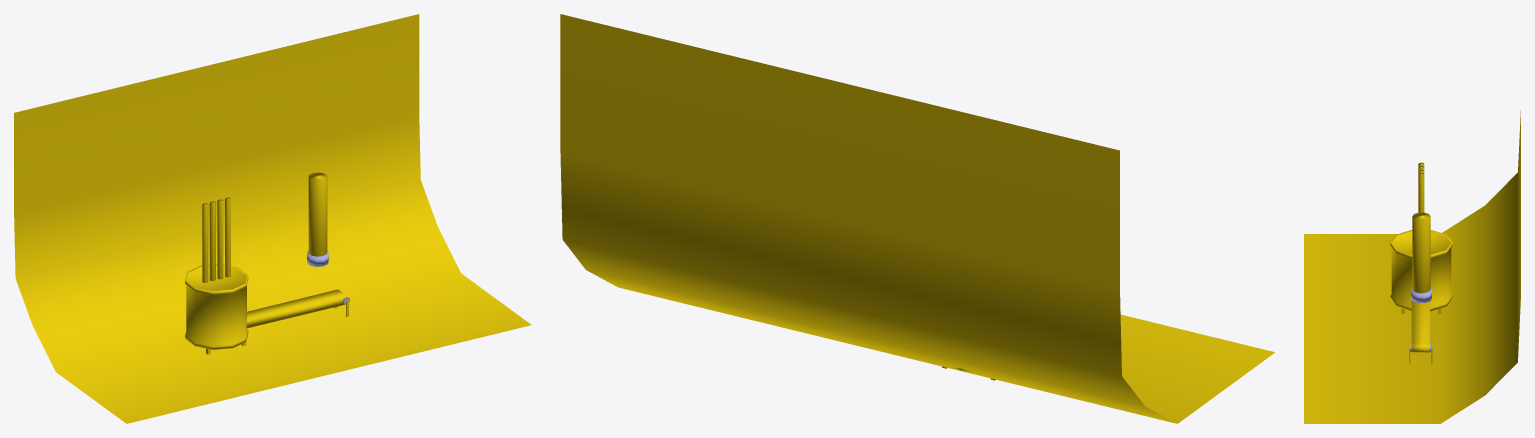
Rendered from grip_background.gltf.
The picture shows the model from 3 angles, left to right: view 1: azimuth 30°, elevation 25°; view 2: azimuth 150°, elevation 25°; view 3: azimuth 270°, elevation 25°; orthographic projection. The views are drawn at different scales.
Visible parts, largest first — view 1: grip_background, Cylinder.005, Cylinder.007, Cylinder.010, Cylinder.009; view 2: grip_background; view 3: grip_background, Cylinder.005, Cylinder.009, Cylinder.010, Cylinder.007, Cylinder.006.
Part boxes in pixels (x1,y1,x2,y2): grip_background: (14, 14, 531, 423); Cylinder.005: (185, 264, 248, 349); Cylinder.007: (202, 197, 230, 282); Cylinder.010: (246, 289, 349, 328); Cylinder.009: (308, 172, 327, 256); grip_background: (560, 14, 1274, 423); grip_background: (1304, 111, 1520, 423); Cylinder.005: (1390, 230, 1452, 311); Cylinder.009: (1412, 212, 1430, 293); Cylinder.010: (1411, 300, 1429, 352); Cylinder.007: (1418, 162, 1424, 212); Cylinder.006: (1411, 288, 1431, 302).
Size of the model in its own units: 12.98 by 7.09 by 6.25.
